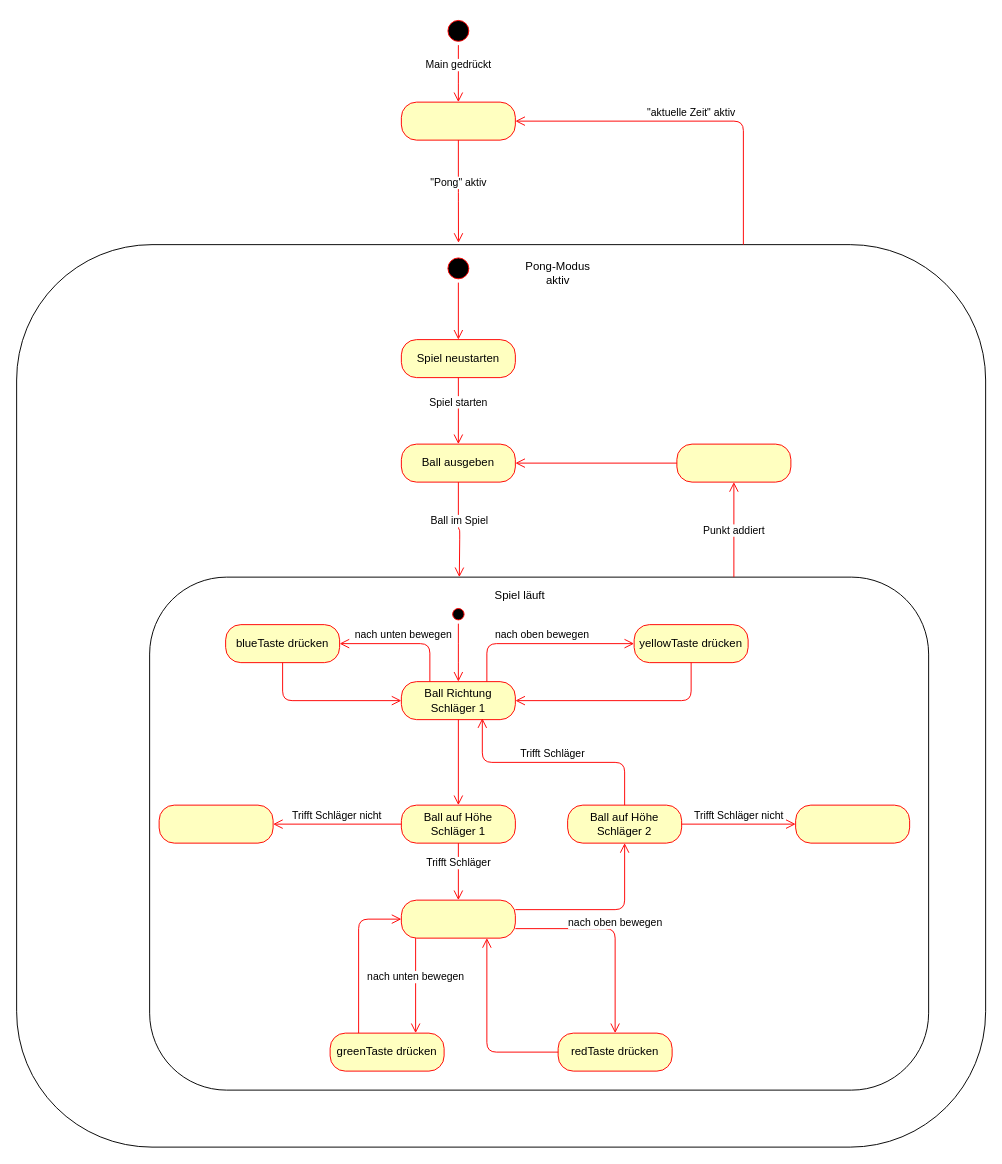
The diagram is 1002 pixels wide and 1164 high, and some of its shapes have lost their labels. The centre of each missing label's shape, as x and y in pixels:
"3 Sekunden warten" belongs at point (733, 462).
"Ball Richtung Schläger 2" belongs at point (457, 918).
"Modus" belongs at point (457, 120).
"Punkt für Spieler 1" belongs at point (852, 823).
"Punkt für Spieler 2" belongs at point (215, 823).
